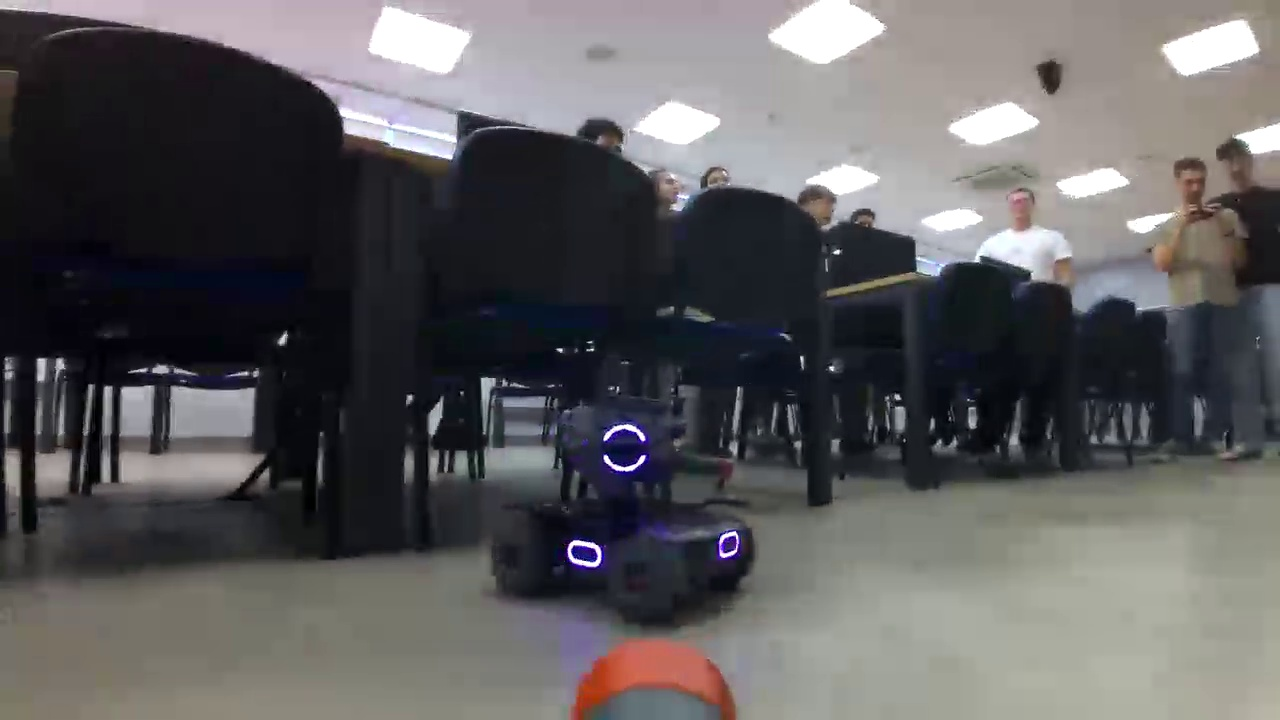robot: (488, 389, 758, 631)
